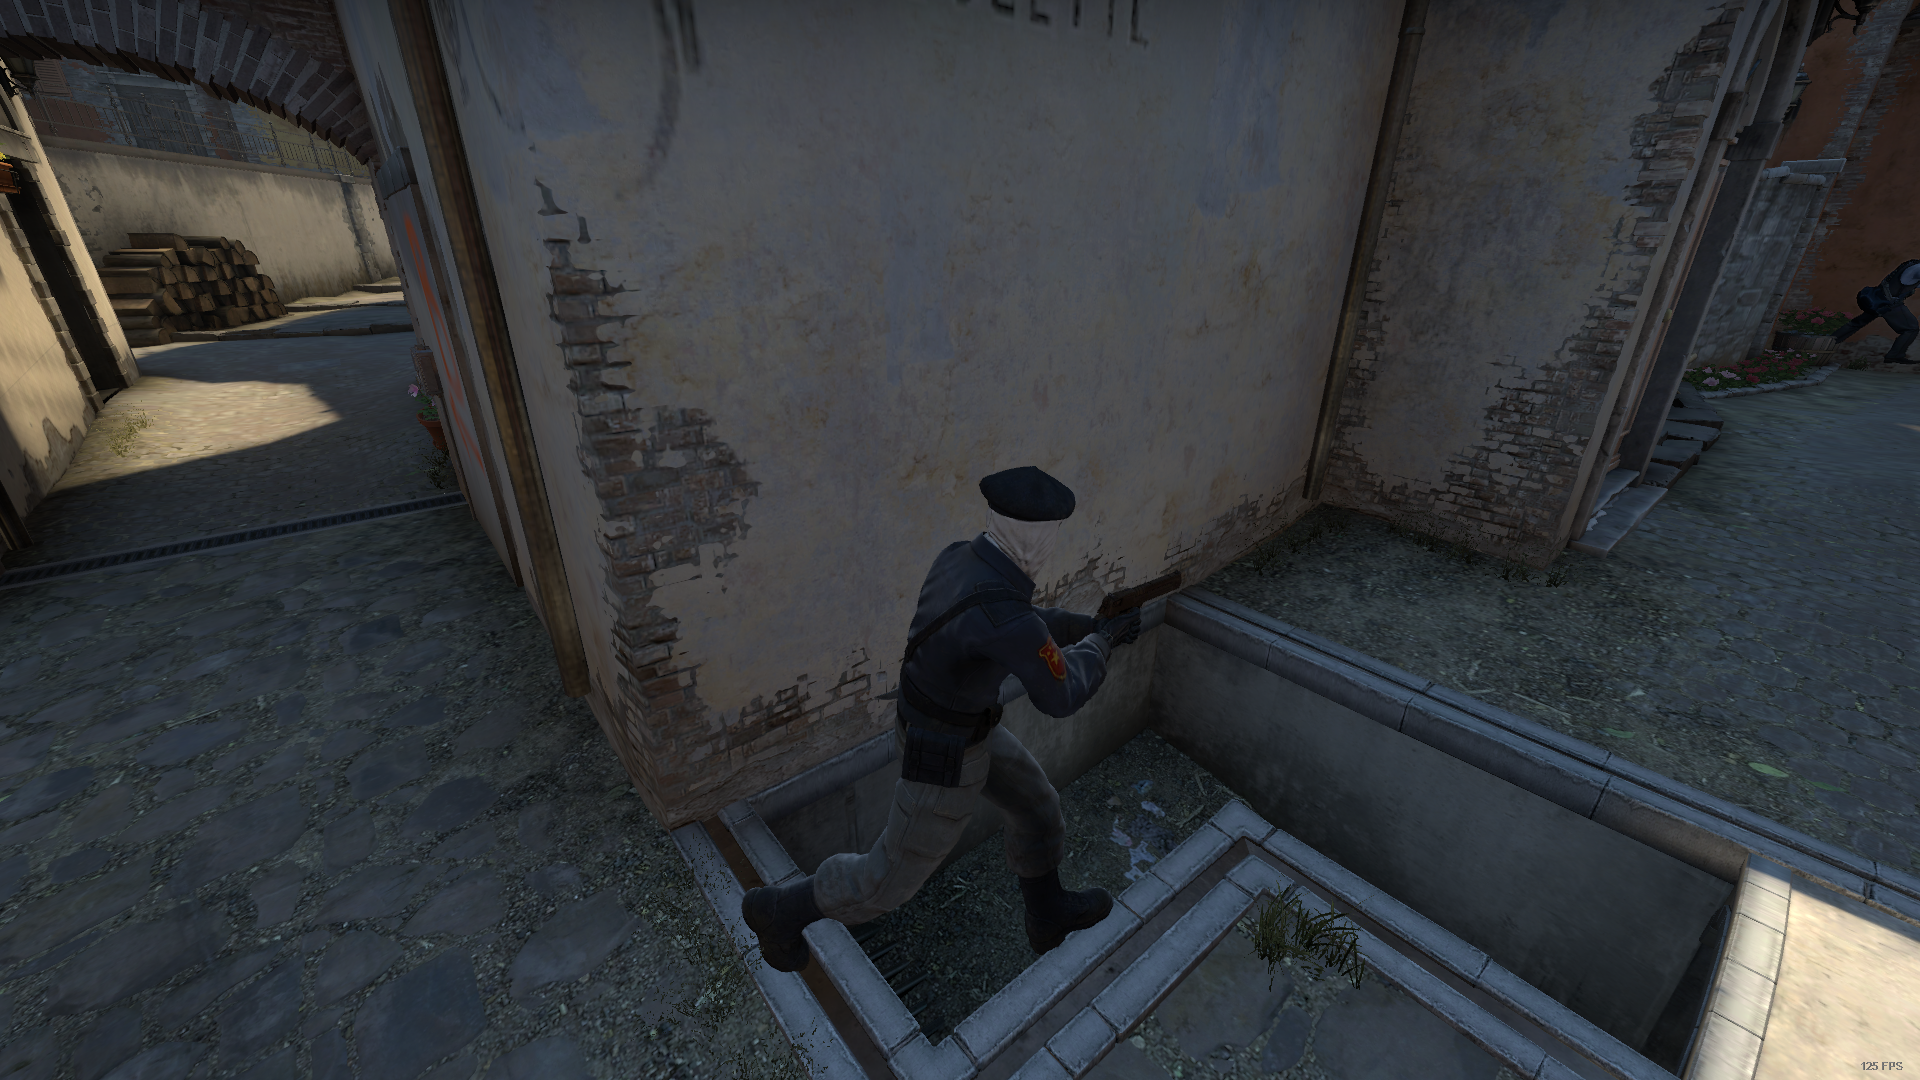t: (724, 460, 1137, 978)
